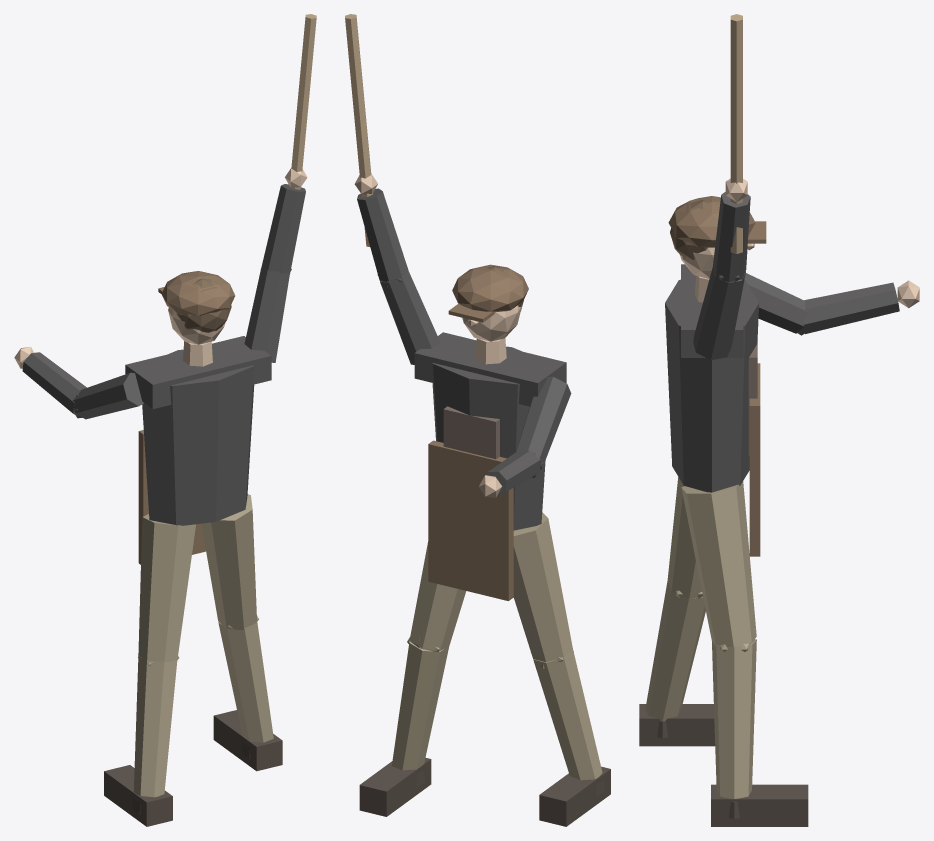
Rendered from shoemaker_auctioneer.glb.
3 renders of one model, left to right at view 1: azimuth 30°, elevation 25°; view 2: azimuth 150°, elevation 25°; view 3: azimuth 270°, elevation 25°, orthographic. The views are drawn at different scales.
Visible parts, largest first — view 1: wool_black, moleskin, boot, leather, skin, wood_lt, hair; view 2: wool_black, moleskin, leather, boot, skin, waistcoat, wood_lt; view 3: wool_black, moleskin, boot, leather, wood_lt, skin, hair, waistcoat.
Boxes of the visible parts, x1,y1,x2,y2 form: wool_black: [22, 184, 305, 525]; moleskin: [133, 494, 273, 797]; boot: [104, 710, 282, 826]; leather: [138, 271, 235, 564]; skin: [14, 168, 307, 368]; wood_lt: [289, 14, 316, 189]; hair: [176, 278, 231, 332]; wool_black: [357, 188, 571, 530]; moleskin: [392, 512, 602, 780]; leather: [428, 264, 528, 600]; boot: [359, 757, 610, 826]; skin: [354, 174, 521, 497]; waistcoat: [443, 406, 499, 459]; wood_lt: [345, 14, 372, 246]; wool_black: [665, 192, 899, 492]; moleskin: [645, 477, 756, 798]; boot: [639, 704, 808, 826]; leather: [668, 196, 766, 556]; wood_lt: [730, 14, 742, 253]; skin: [680, 178, 919, 308]; hair: [670, 199, 707, 260]; waistcoat: [748, 342, 757, 455].
Bounding box in the file's own units: 0.8165 × 2.54 × 0.7773.
